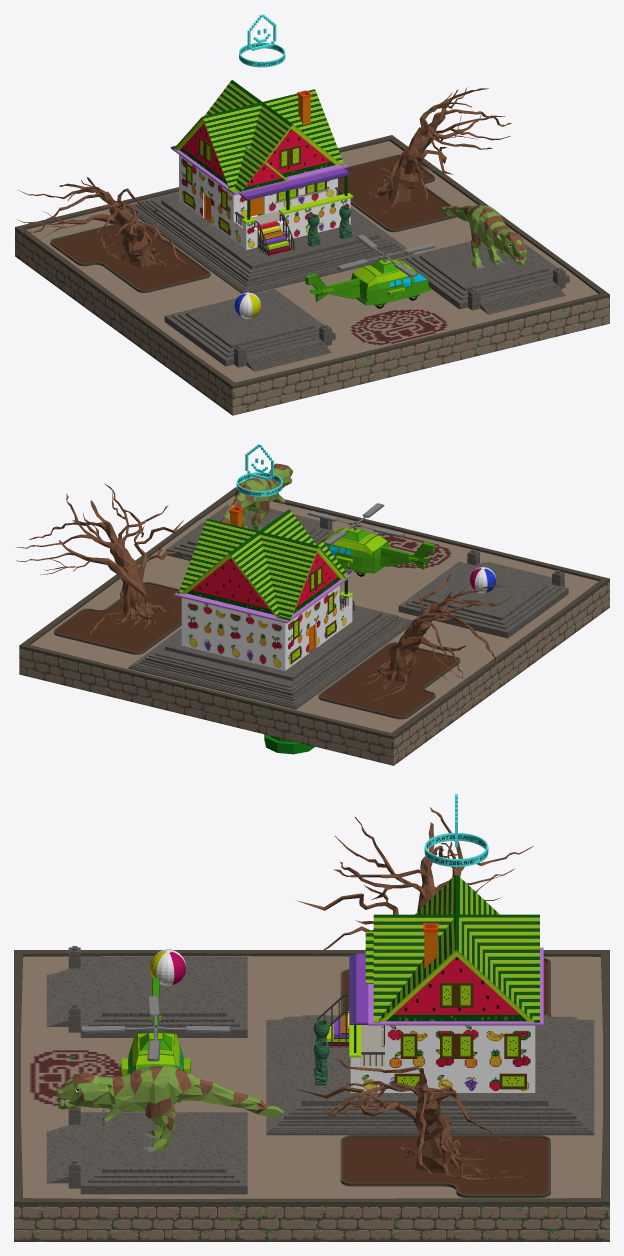
3 views of the same model, one above another, from view 1: azimuth 30°, elevation 25°; view 2: azimuth 150°, elevation 25°; view 3: azimuth 270°, elevation 25° (orthographic). The views are drawn at different scales.
Parts seen in each view (by area): view 1: Cube.011, Cube.1063, VEHICLES_HELICOPTER, ANIMAL_TREX, TYPE_PREMIUM, OBJRANDOM_BEACHBALL; view 2: Cube.011, Cube.1063, VEHICLES_HELICOPTER, ANIMAL_TREX, TYPE_PREMIUM, UNDERGROUND_PIPES, OBJRANDOM_BEACHBALL; view 3: Cube.011, Cube.1063, ANIMAL_TREX, VEHICLES_HELICOPTER, TYPE_PREMIUM, OBJRANDOM_BEACHBALL.
Boxes of the visible parts, x1=… form: Cube.011: x1=15, y1=87, x2=609, y2=415; Cube.1063: x1=170, y1=80, x2=353, y2=256; VEHICLES_HELICOPTER: x1=305, y1=234, x2=434, y2=308; ANIMAL_TREX: x1=439, y1=204, x2=527, y2=269; TYPE_PREMIUM: x1=239, y1=14, x2=285, y2=67; OBJRANDOM_BEACHBALL: x1=234, y1=292, x2=260, y2=318; Cube.011: x1=16, y1=483, x2=609, y2=765; Cube.1063: x1=174, y1=506, x2=354, y2=670; VEHICLES_HELICOPTER: x1=307, y1=503, x2=434, y2=576; ANIMAL_TREX: x1=219, y1=463, x2=292, y2=530; TYPE_PREMIUM: x1=236, y1=444, x2=282, y2=496; UNDERGROUND_PIPES: x1=264, y1=734, x2=314, y2=754; OBJRANDOM_BEACHBALL: x1=470, y1=567, x2=495, y2=593; Cube.011: x1=14, y1=807, x2=609, y2=1241; Cube.1063: x1=317, y1=875, x2=543, y2=1092; ANIMAL_TREX: x1=56, y1=1065, x2=283, y2=1151; VEHICLES_HELICOPTER: x1=81, y1=978, x2=230, y2=1102; TYPE_PREMIUM: x1=424, y1=794, x2=488, y2=866; OBJRANDOM_BEACHBALL: x1=150, y1=949, x2=185, y2=985.
Bounding box in the file's own units: 5099 × 3050 × 4000.
Materials: 37 (8 with a texture image).
